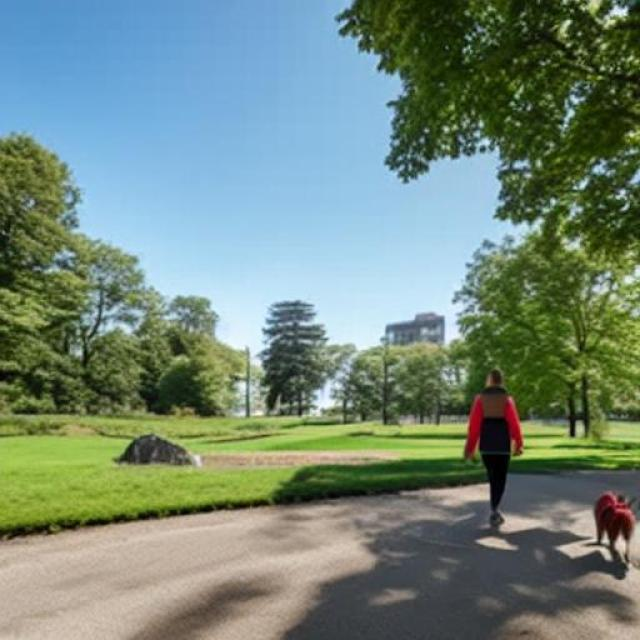Unleashed_Dog: (484, 437, 637, 563)
